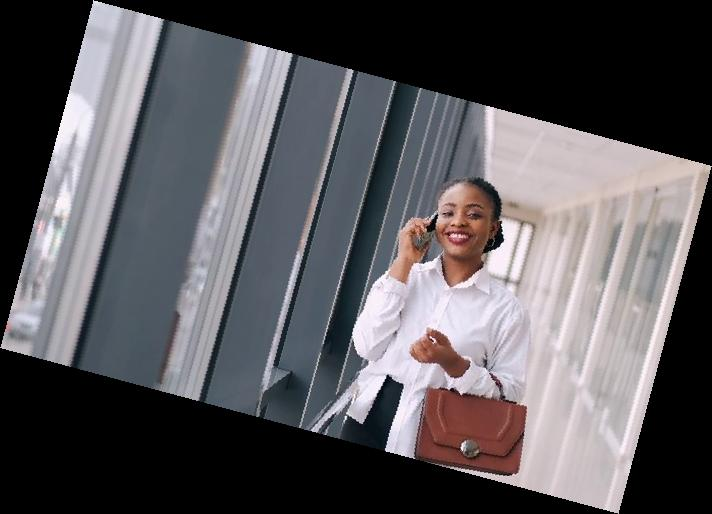phone: (419, 201, 441, 238)
